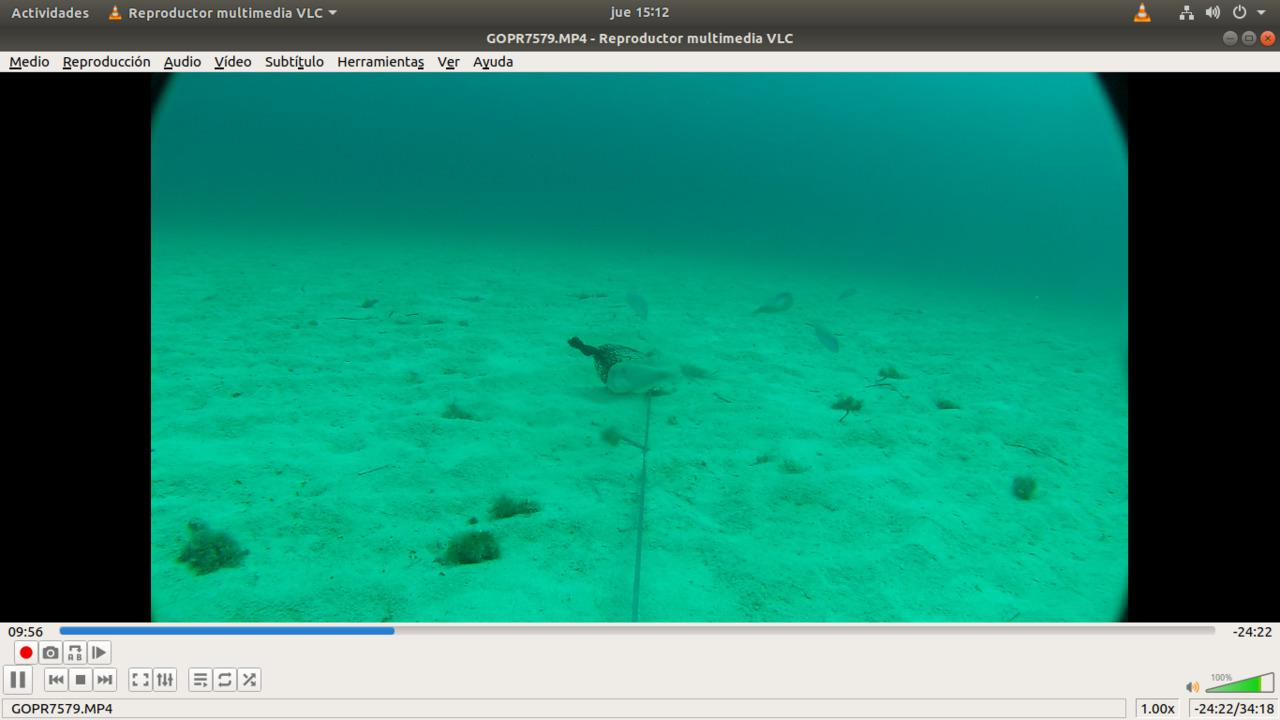raor: (607, 361, 678, 398), (744, 287, 802, 325), (810, 317, 852, 360), (612, 284, 656, 325)
